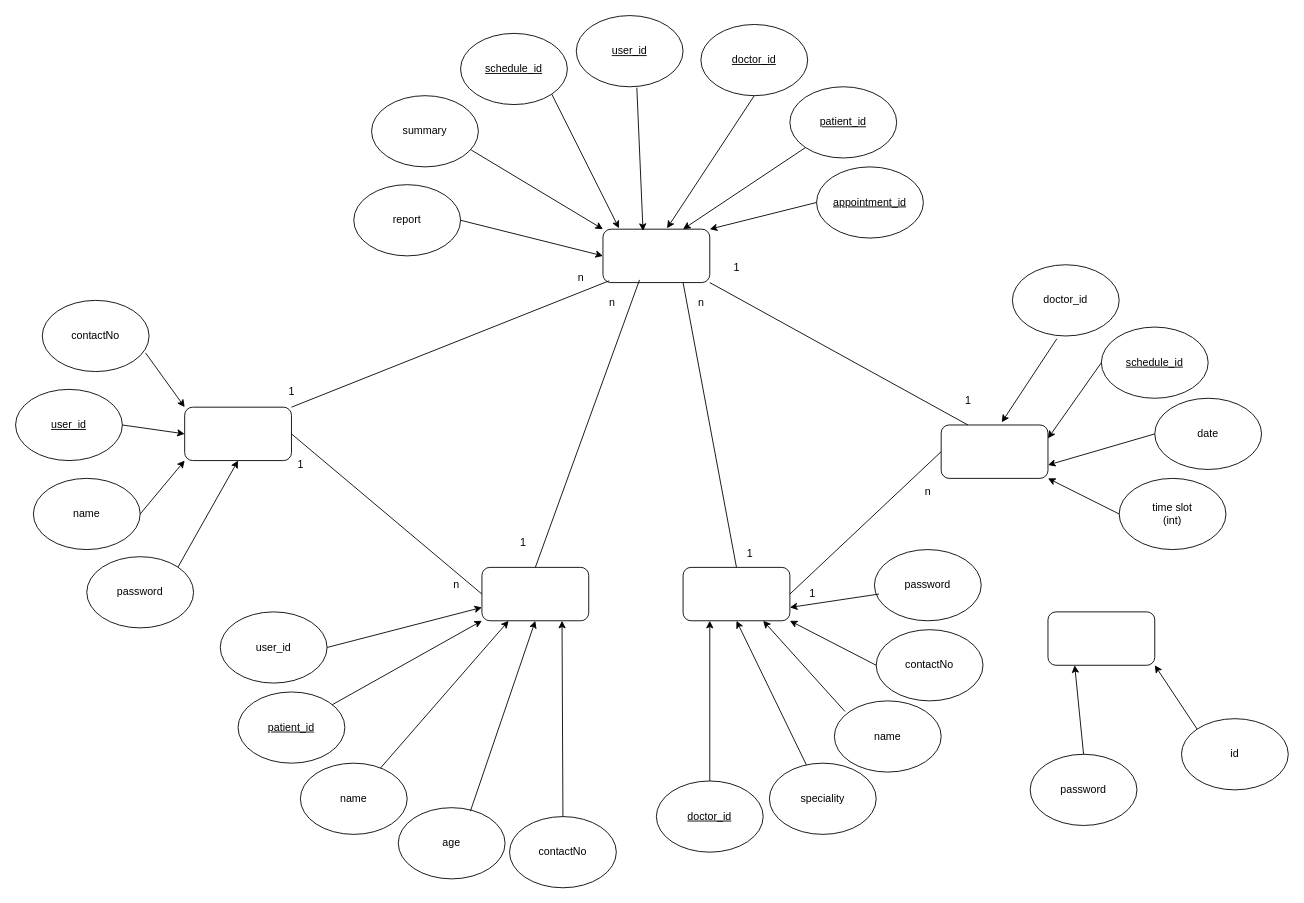
The diagram is 1304 pixels wide and 903 high, and some of its shapes have lost their labels. Each missing label, with the centre of its shape:
Admin: (1101,638)
Appointment: (656,255)
Doctors: (736,593)
Patients: (535,593)
Schedule: (994,451)
Users (receptionist): (237,433)
